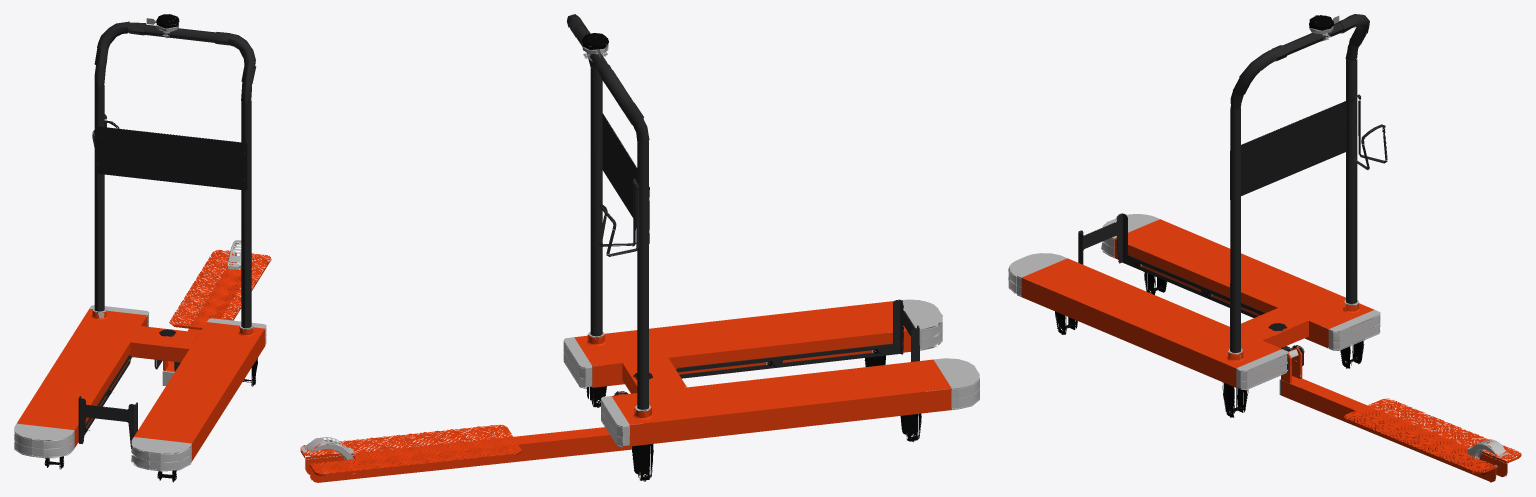
The model's file is SKUTRO update.gltf.
3 renders of one model, left to right at view 1: azimuth 30°, elevation 25°; view 2: azimuth 150°, elevation 25°; view 3: azimuth 270°, elevation 25°, orthographic. The views are drawn at different scales.
Visible parts, largest first — view 1: Skutro_2; view 2: Skutro_2; view 3: Skutro_2.
Boxes of the visible parts, left/top/right/bottom form: Skutro_2: left=14, top=14, right=271, bottom=482; Skutro_2: left=300, top=14, right=979, bottom=482; Skutro_2: left=1008, top=14, right=1521, bottom=482.
Bounding box in the file's own units: 0.7119 × 0.5855 × 0.7138.
